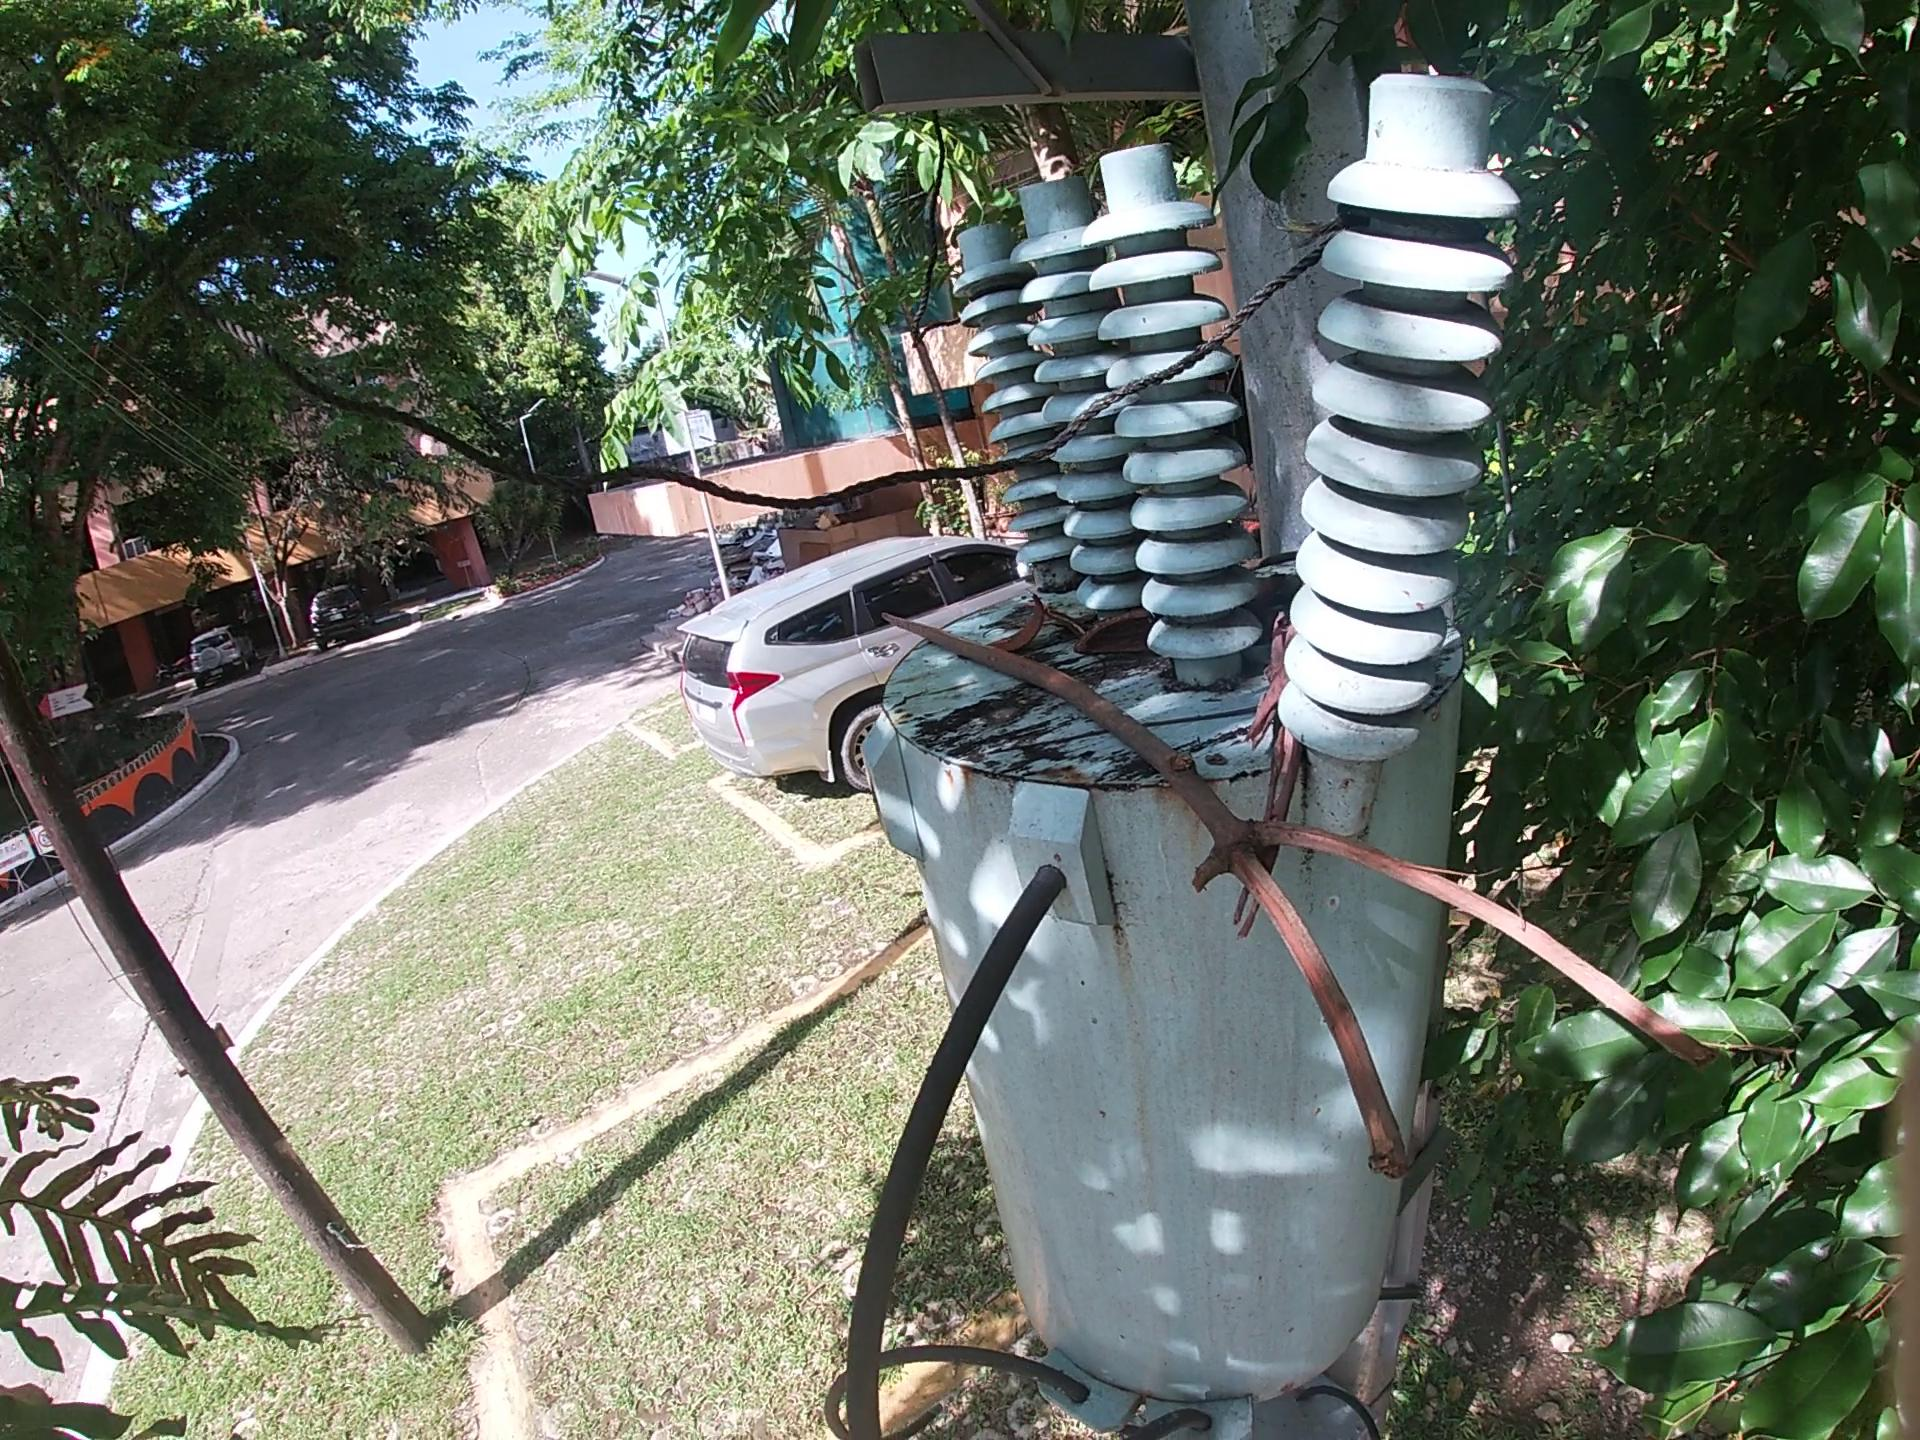mahogany fruit: (1069, 613, 1158, 664), (987, 587, 1054, 647), (1250, 594, 1293, 650)
tree branch: (878, 607, 1748, 1227), (1238, 542, 1318, 964), (955, 703, 1261, 777), (1243, 585, 1315, 619), (1247, 551, 1305, 579), (1045, 607, 1090, 641)
